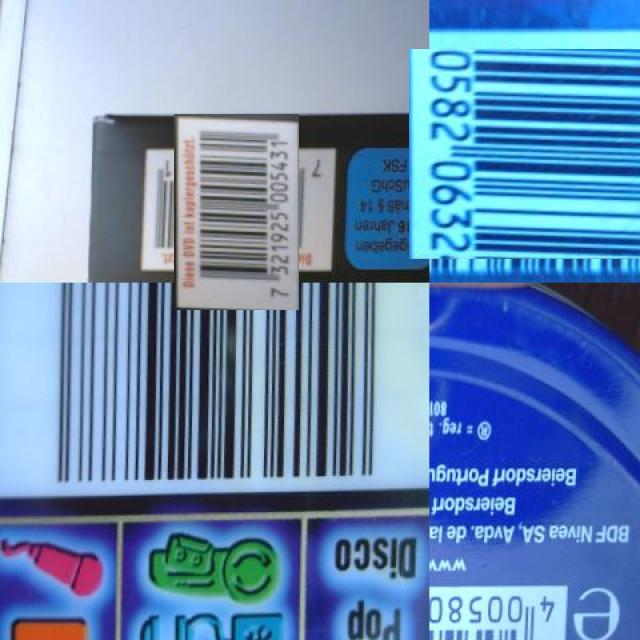Barcode: (0, 283, 430, 498), (420, 40, 640, 270), (156, 132, 317, 292)
